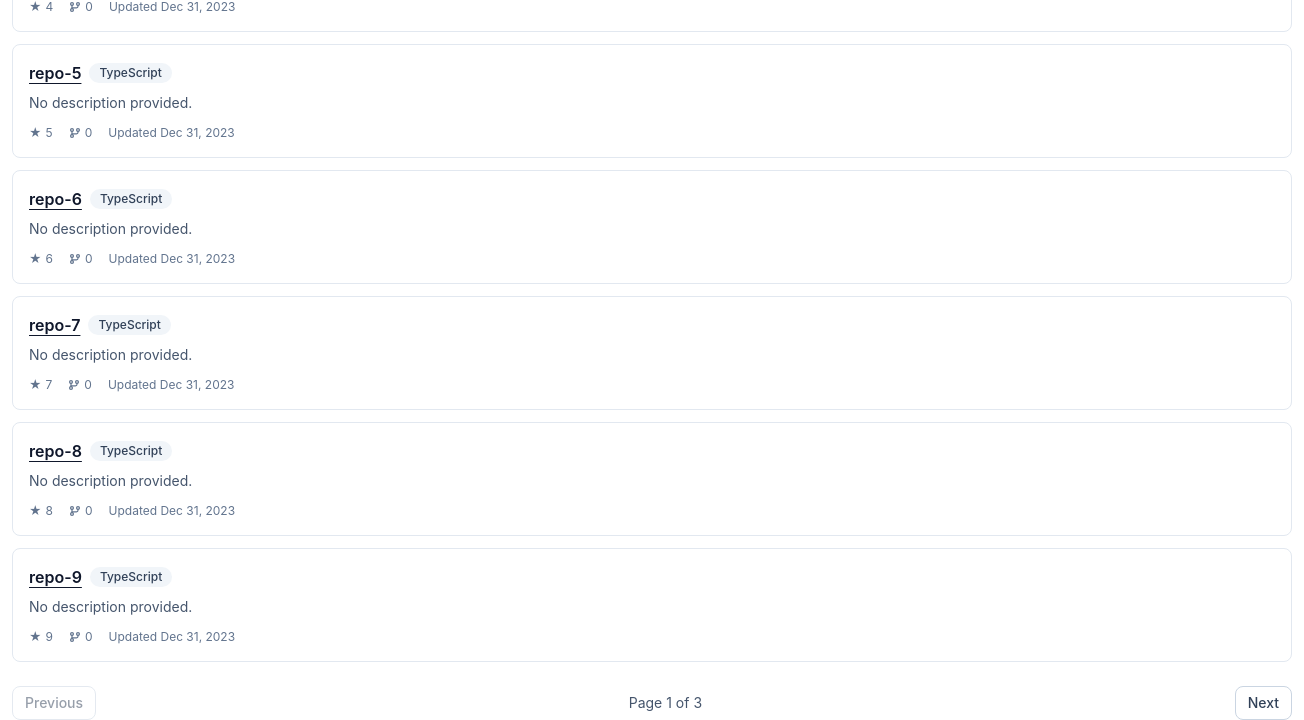
Test case: RepositoryExplorer › pagination › goes back to the first page when the sorting option changes
The width and height of the screenshot is (1304, 720).
(page scrolled)
Click the button "Next". click: coordinates (1263, 703)
box: [1235,686,1292,719]
(page scrolled)
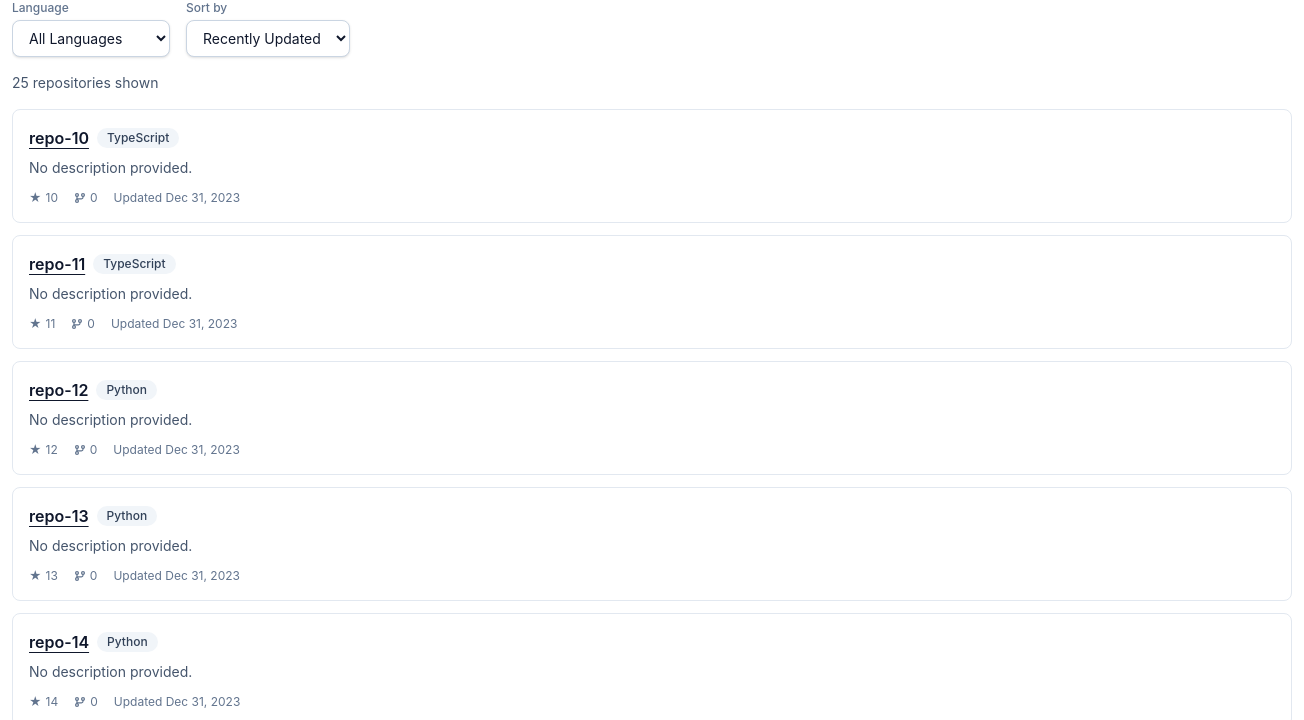
Select "Most Stars" in the dropdown labelled "Sort by". click: coordinates (268, 38)
box: [186,20,350,57]
(page scrolled)
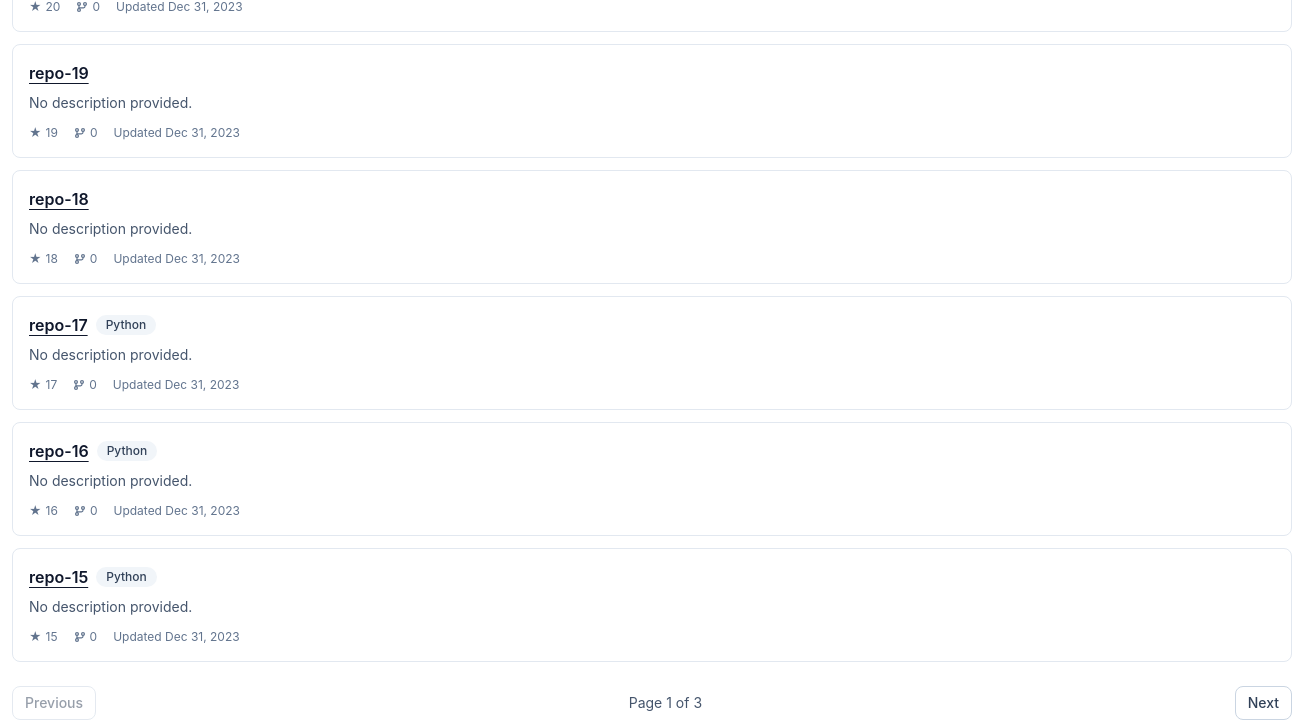
Expected: the text "Page 1 of 3" is shown, [629,693,702,713]
